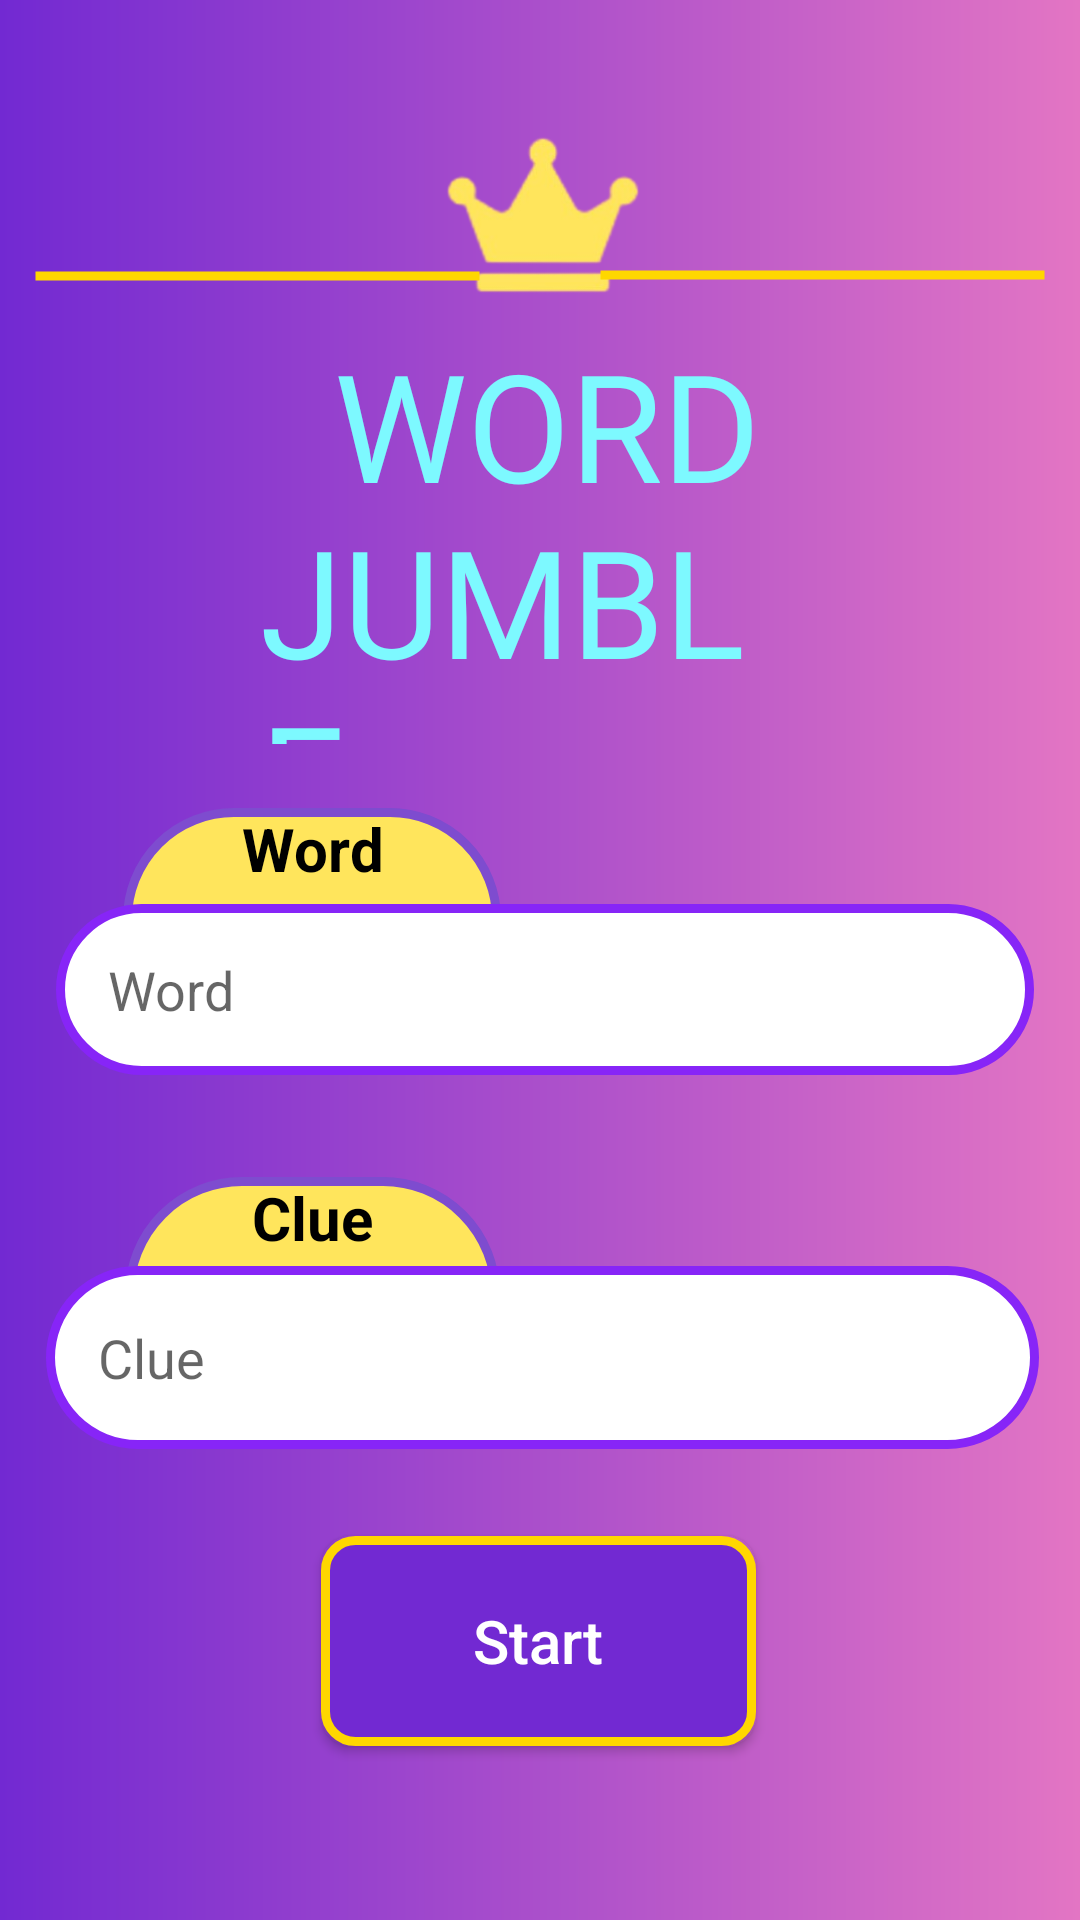

Where icons sit on this 1080 × 1920 app screen, as (x1, y1, x2, y2):
crown: (416, 89, 665, 353)
